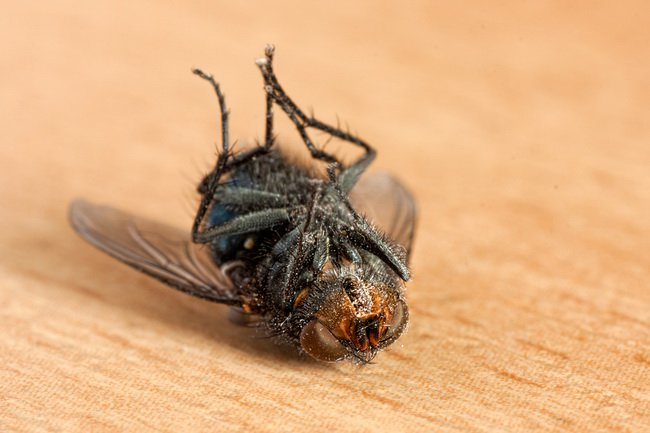fly: (66, 32, 433, 373)
